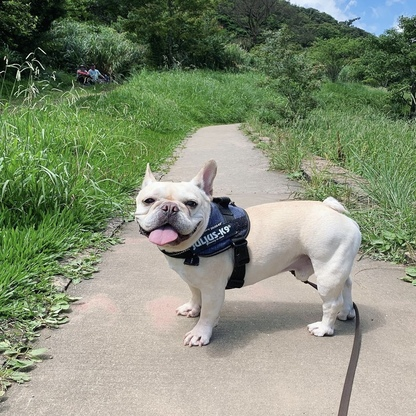bulldog: (131, 158, 363, 347)
